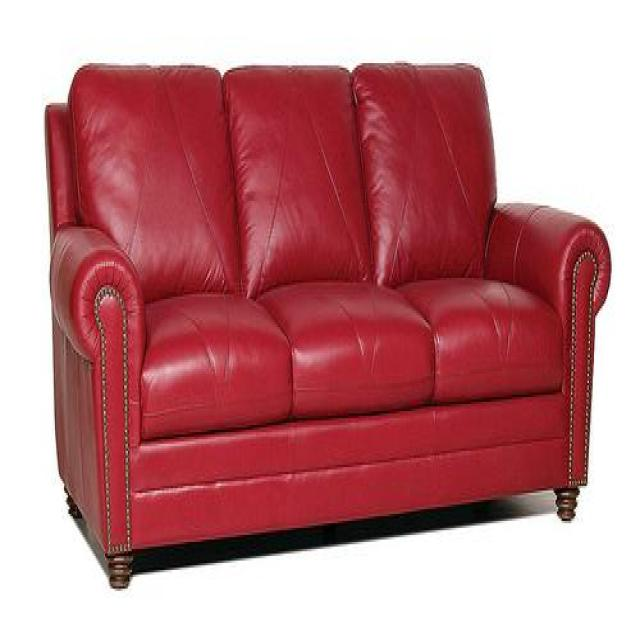sofa: (44, 55, 611, 592)
